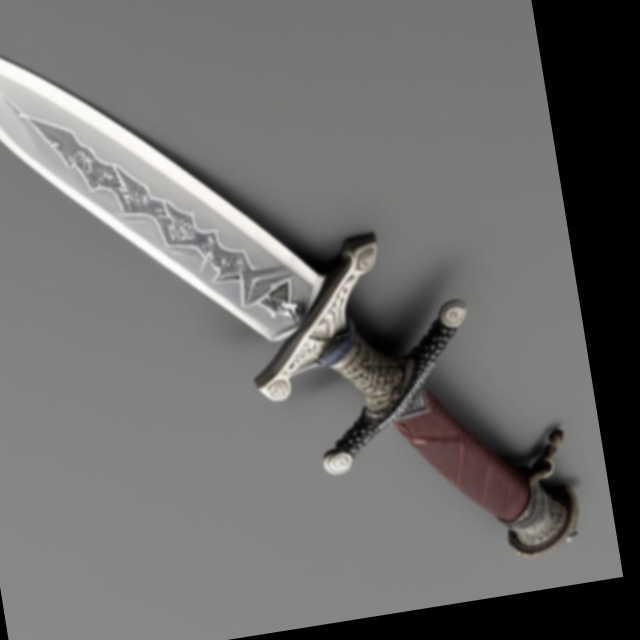Sharp-Object: (0, 0, 591, 640)
